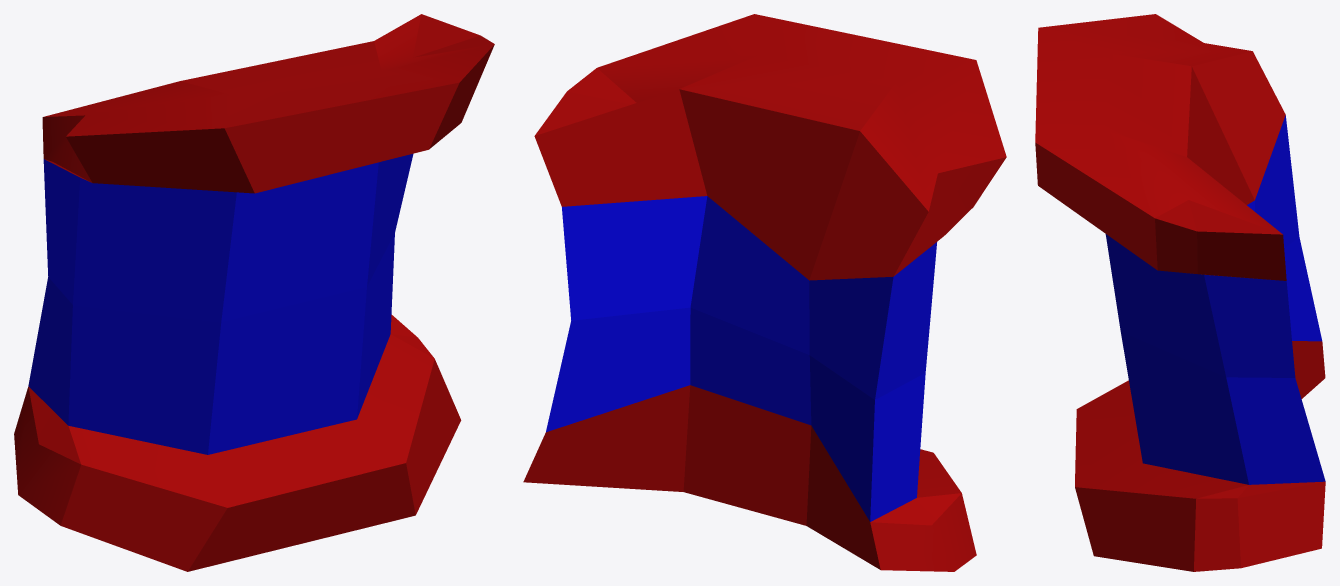
Rendered from Chr_KneeAttachLeft_Static_02.fbx.
3 views of the same model, side by side, from view 1: azimuth 30°, elevation 25°; view 2: azimuth 150°, elevation 25°; view 3: azimuth 270°, elevation 25° (orthographic). The views are drawn at different scales.
Visible parts, largest first — view 1: Chr_KneeAttachLeft_02; view 2: Chr_KneeAttachLeft_02; view 3: Chr_KneeAttachLeft_02.
Part boxes in pixels (x1,y1,x2,y2): Chr_KneeAttachLeft_02: [14, 14, 494, 571]; Chr_KneeAttachLeft_02: [523, 14, 1006, 571]; Chr_KneeAttachLeft_02: [1035, 14, 1325, 571].
Bounding box in the file's own units: 17.52 × 17.82 × 10.9.
